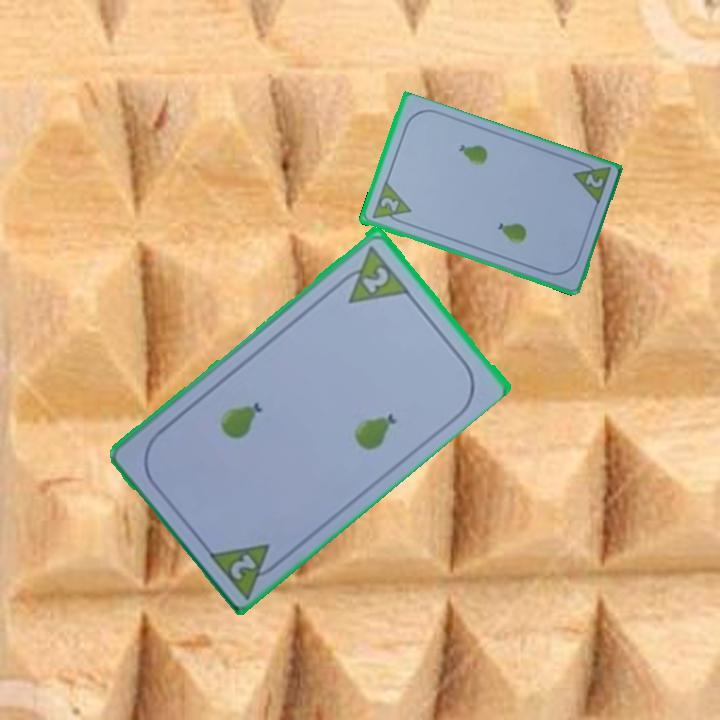2p: (332, 240, 411, 307), (204, 539, 287, 600), (368, 180, 414, 228), (581, 170, 606, 191)
